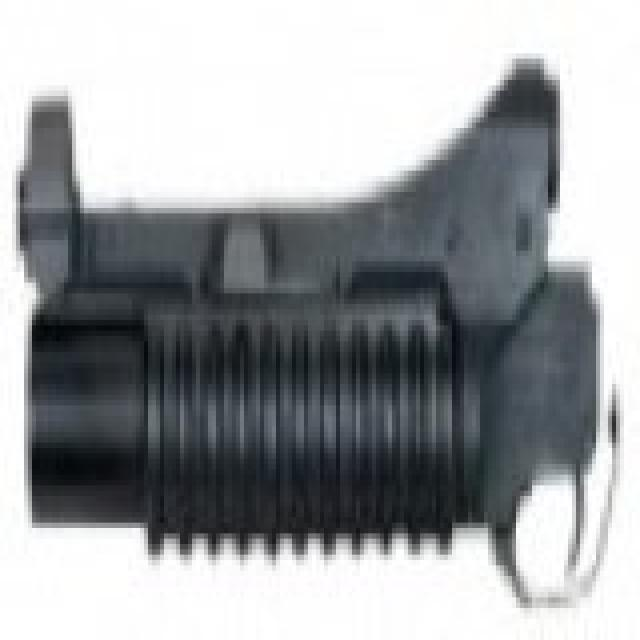Gun: (15, 75, 631, 624)
